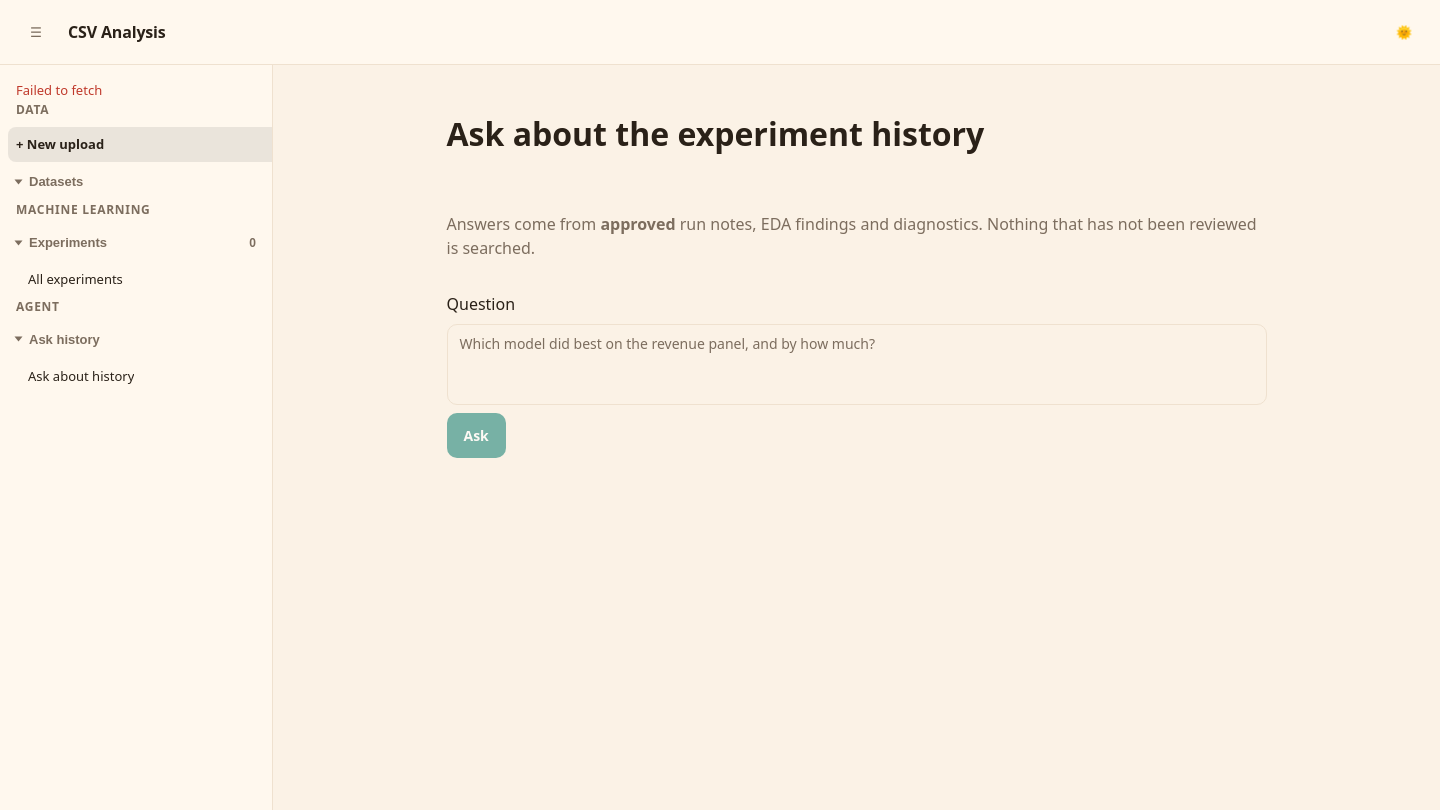
Test: AskPage › shows an error banner when the request fails
This screenshot has width=1440, height=810.
Type "which model won?" into the text box labelled "Question".
click(856, 364); type("which model won?")  # box [446, 324, 1266, 405]
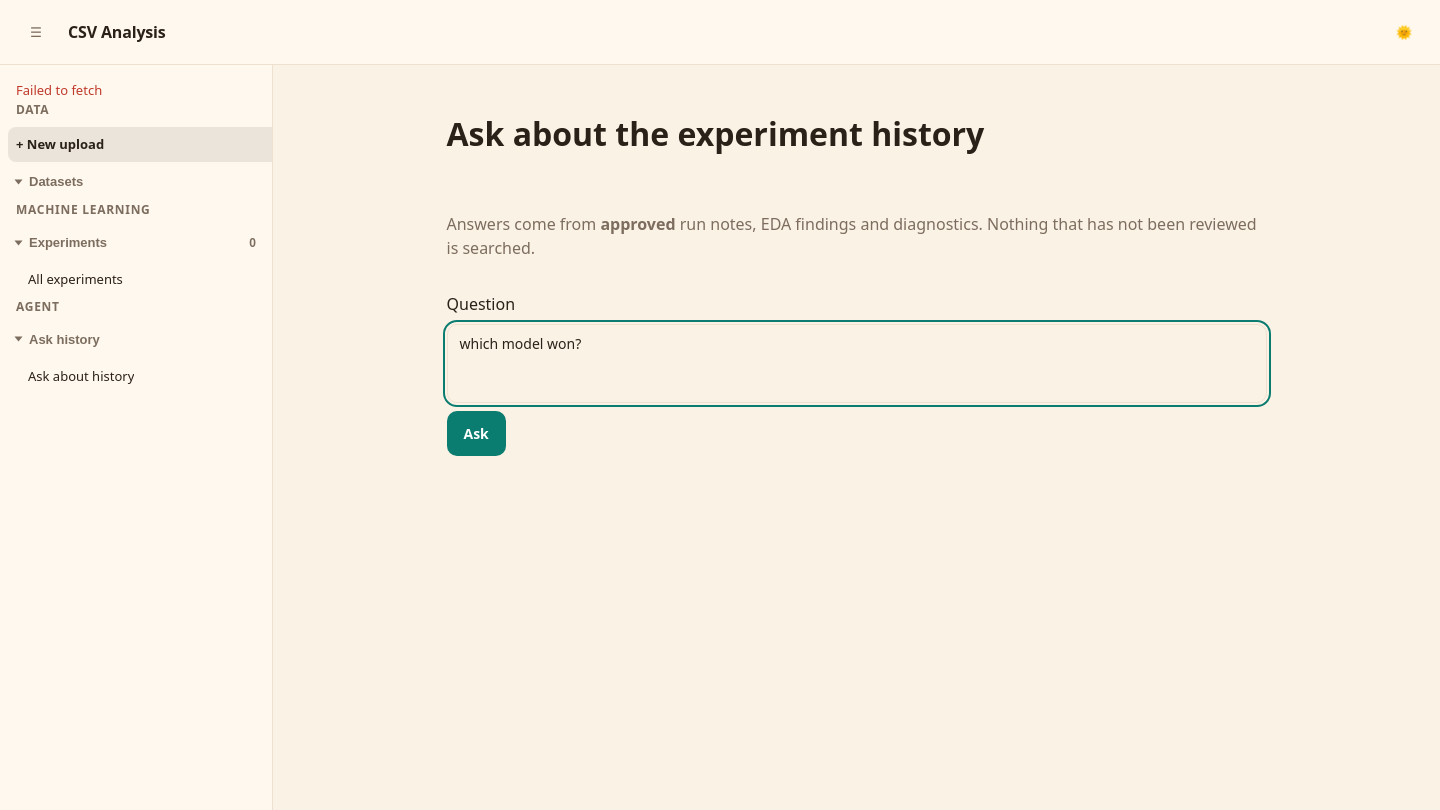
Click the button "Ask".
click(476, 433)  # box [446, 411, 506, 456]
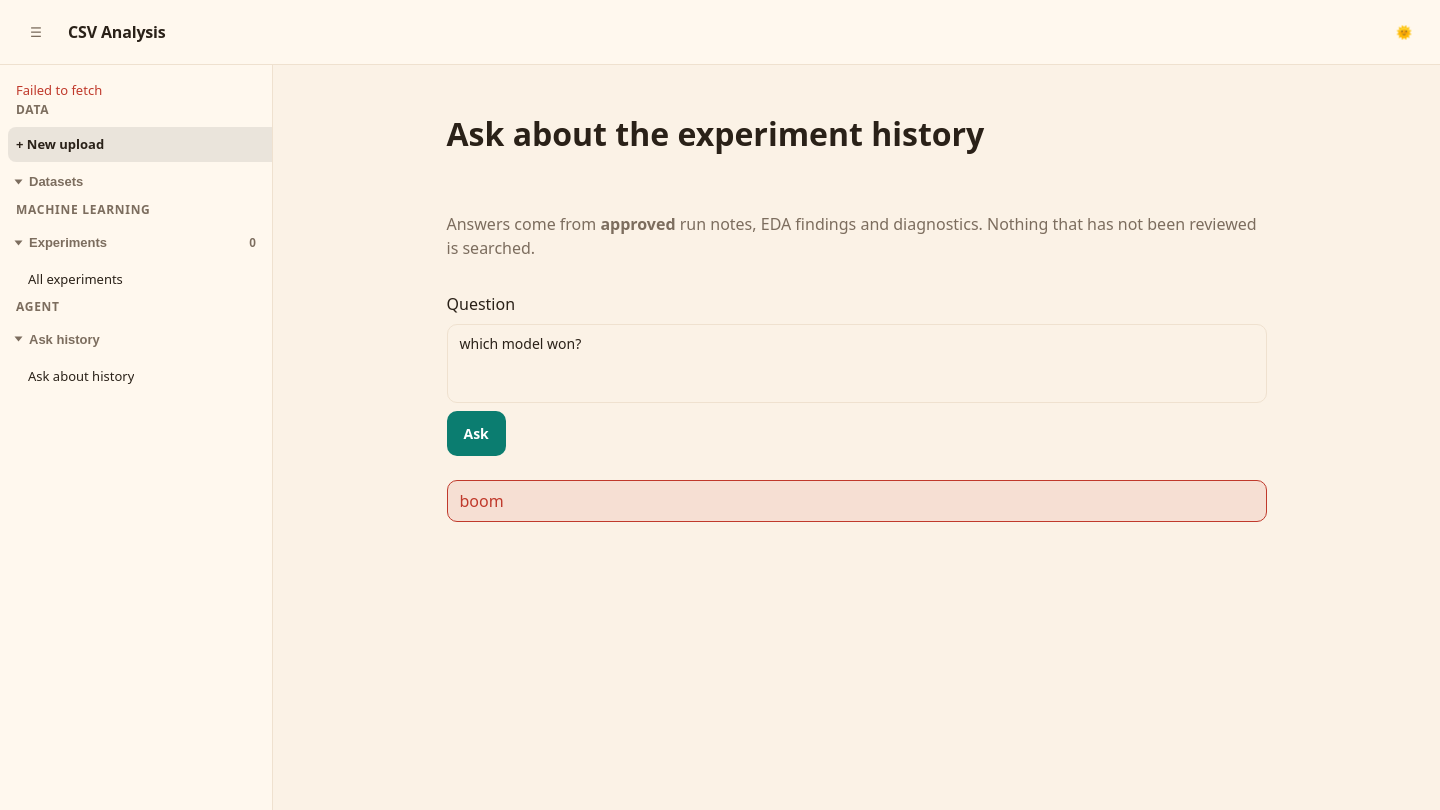
Expected: the text "boom" is shown, [446, 480, 1266, 522]
